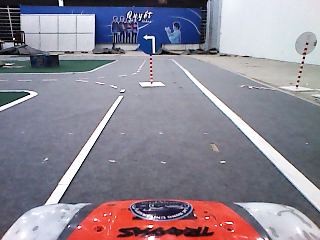turn: (139, 32, 161, 57)
